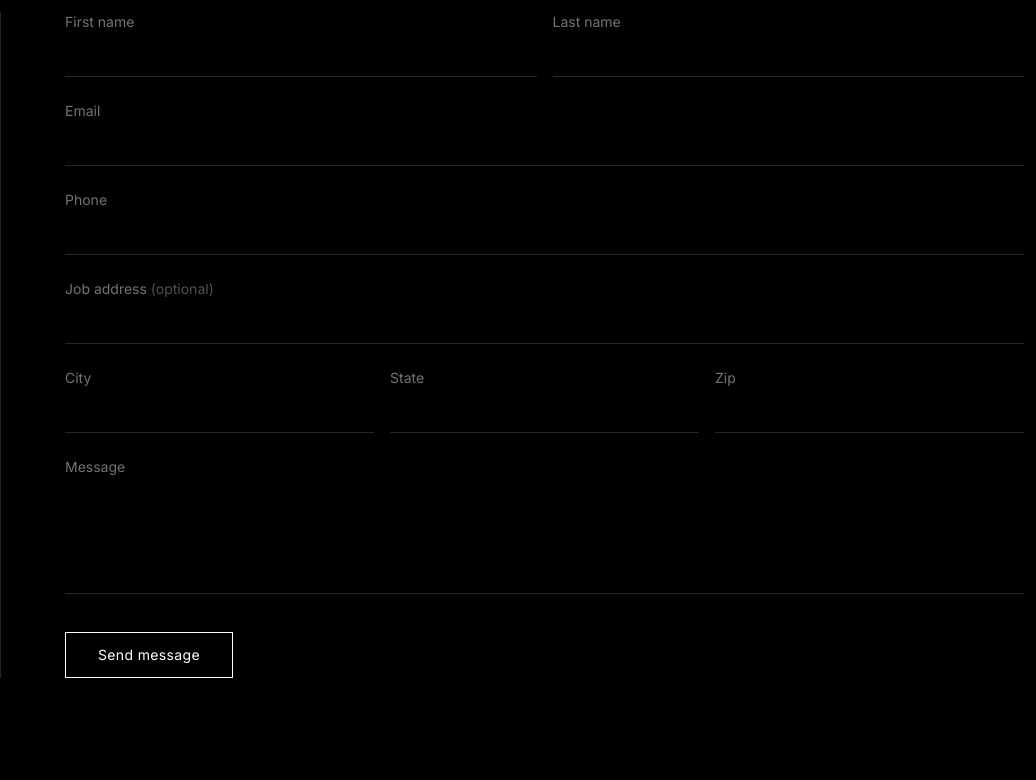
ContactForm › shows an error message when the submission fails
Type "Jane" into the field labelled "First name" at (301, 56), box [65,36,536,77]
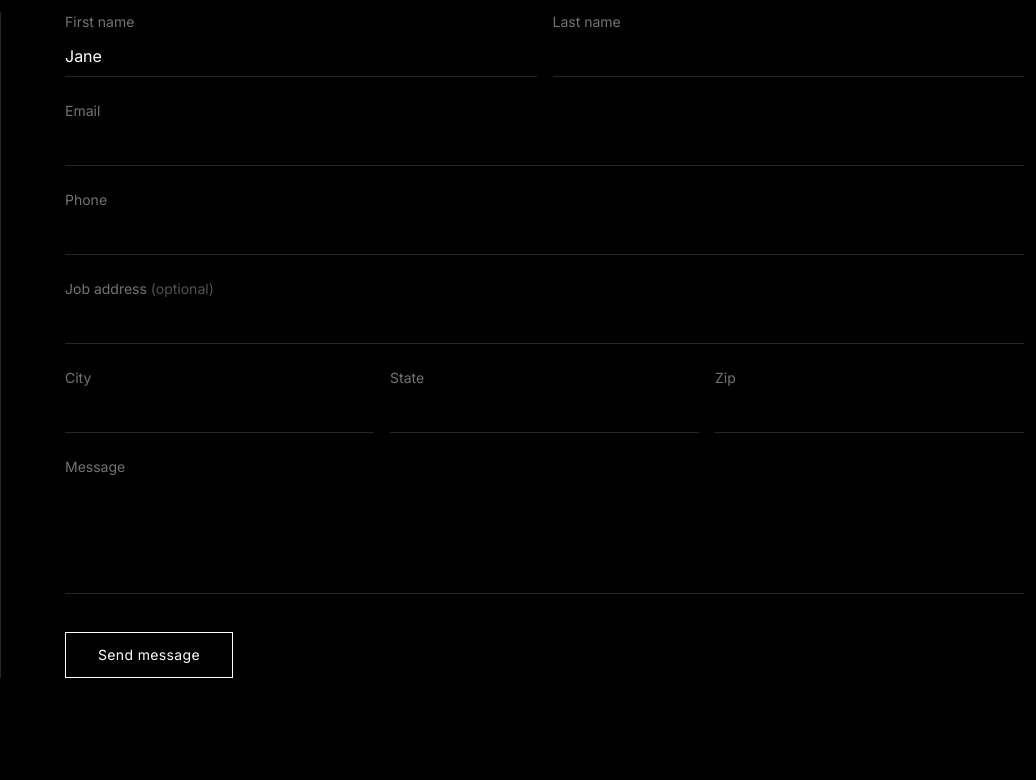
Type "Doe" into the field labelled "Last name" at (788, 56), box [552,36,1024,77]
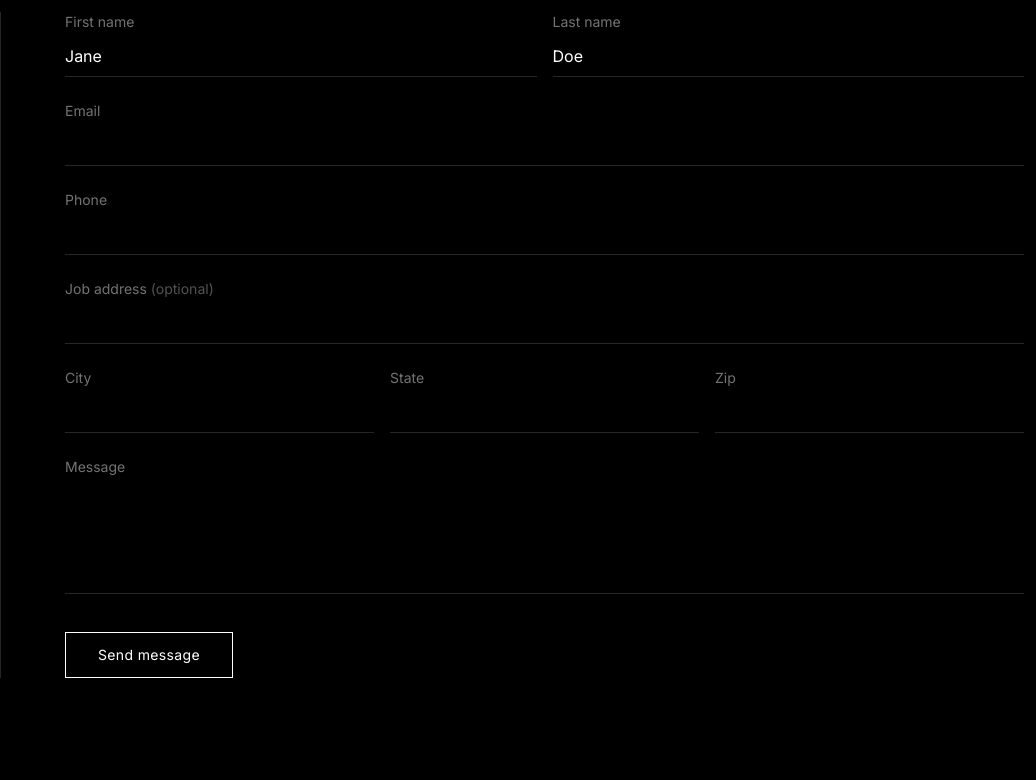
Type "jane@example.com" into the field labelled "Email" at (544, 146), box [65,125,1024,166]
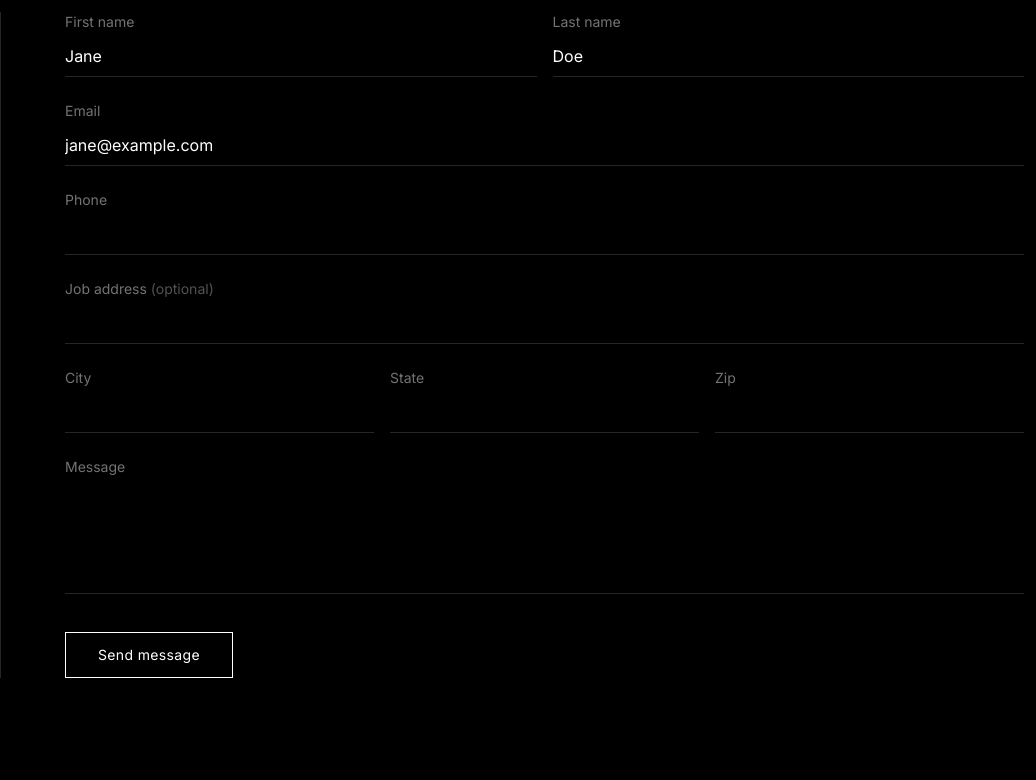
Type "412-555-0100" into the field labelled "Phone" at (544, 234), box [65,214,1024,255]
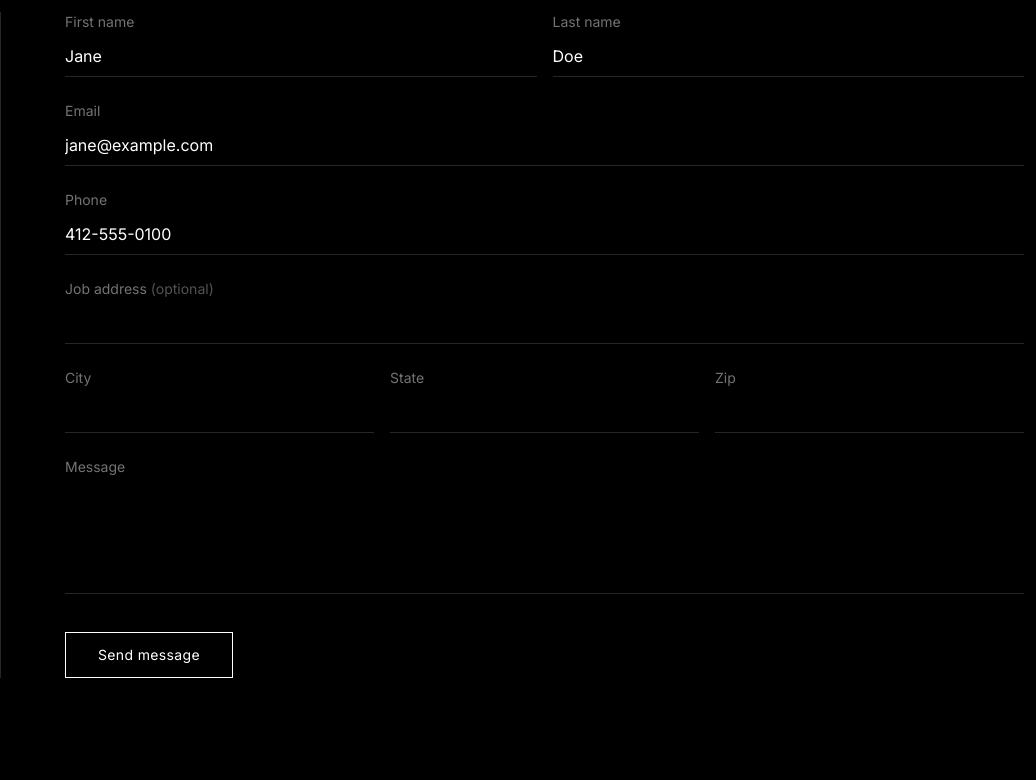
Type "Please quote my kitchen." into the text box labelled "Message" at (544, 538), box [65,481,1024,594]
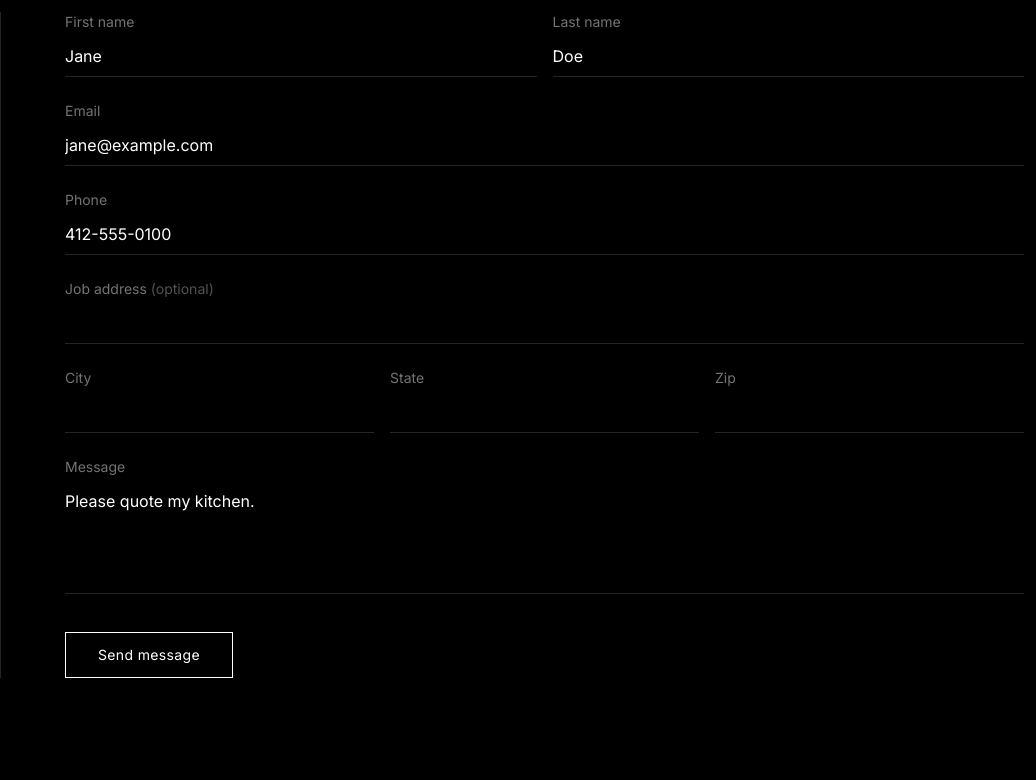
Click the button "Send message" at (149, 655), box [65,632,233,678]
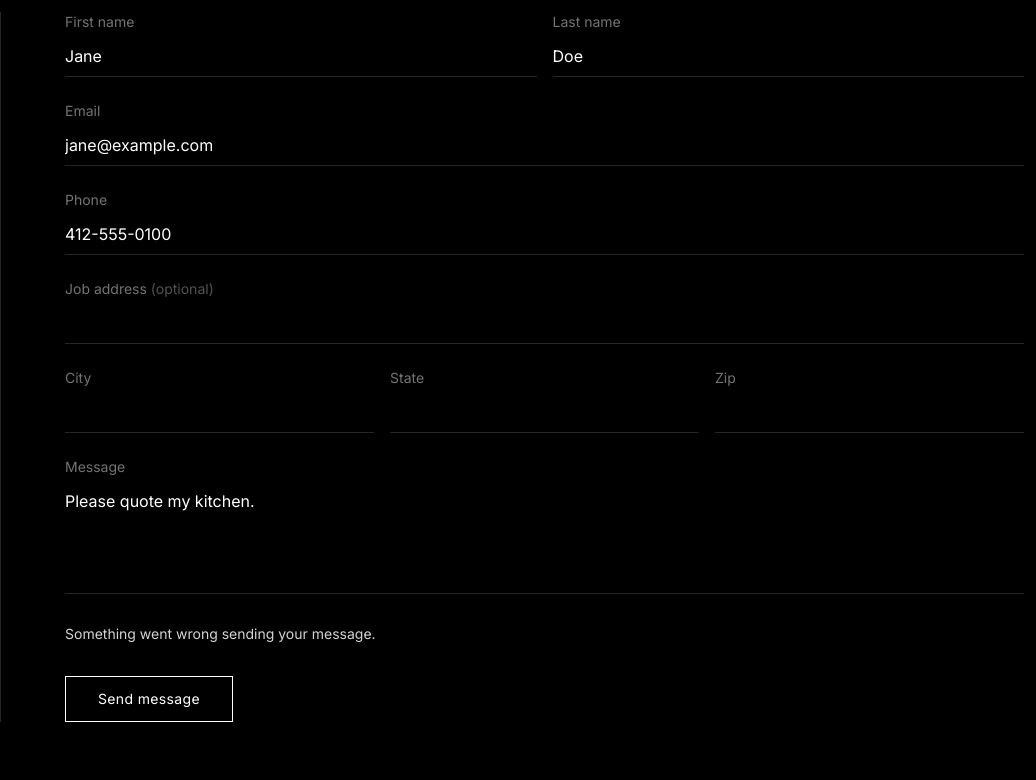
Result: the message shows "Something went wrong" at [65,625,376,642]
